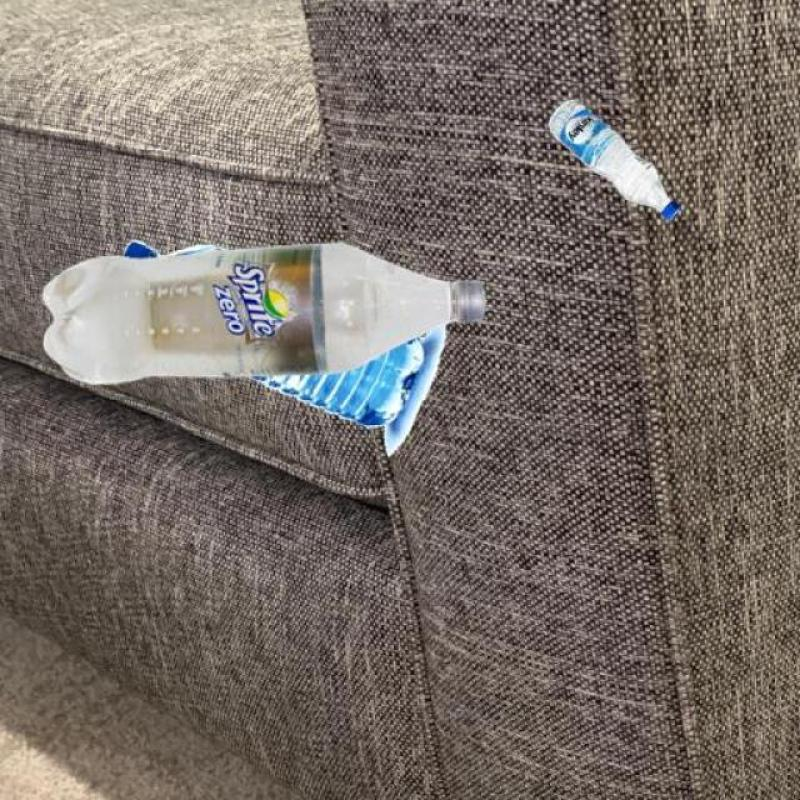botella: (38, 236, 492, 384), (123, 238, 427, 427), (545, 97, 681, 226)
